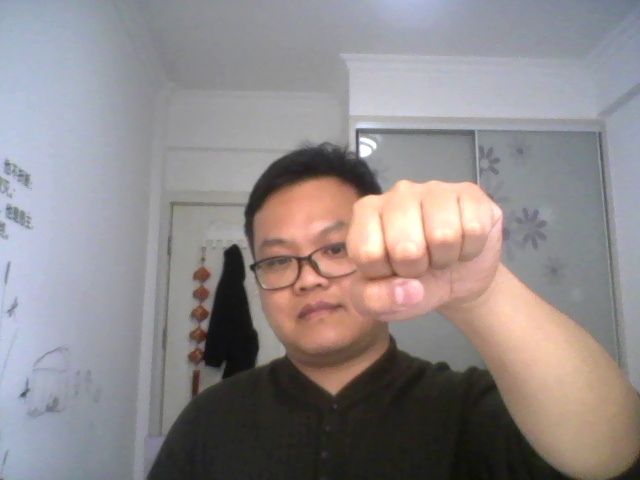Yes: (339, 168, 512, 335)
